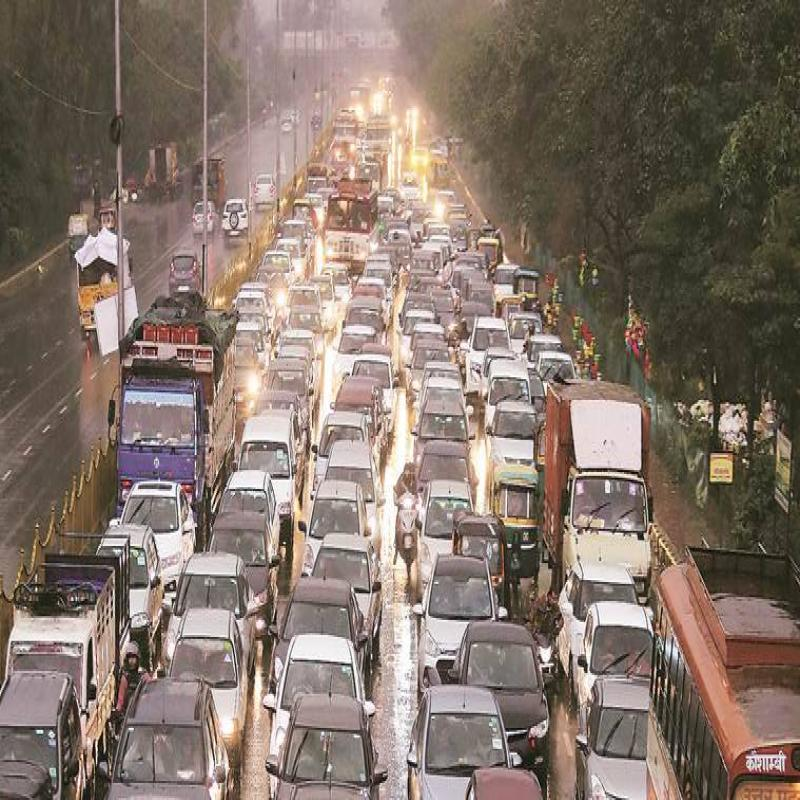car: (420, 672, 526, 800), (113, 680, 226, 800), (263, 708, 385, 800), (422, 563, 510, 681), (180, 632, 268, 746), (242, 407, 300, 554), (272, 626, 360, 715), (172, 540, 251, 633), (332, 372, 392, 454), (321, 445, 385, 519)
